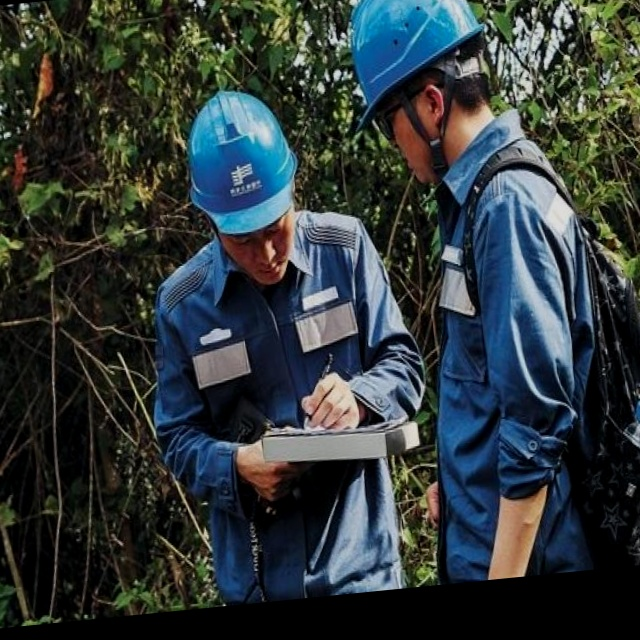Con_Casco: (348, 0, 502, 189), (179, 80, 315, 289)
